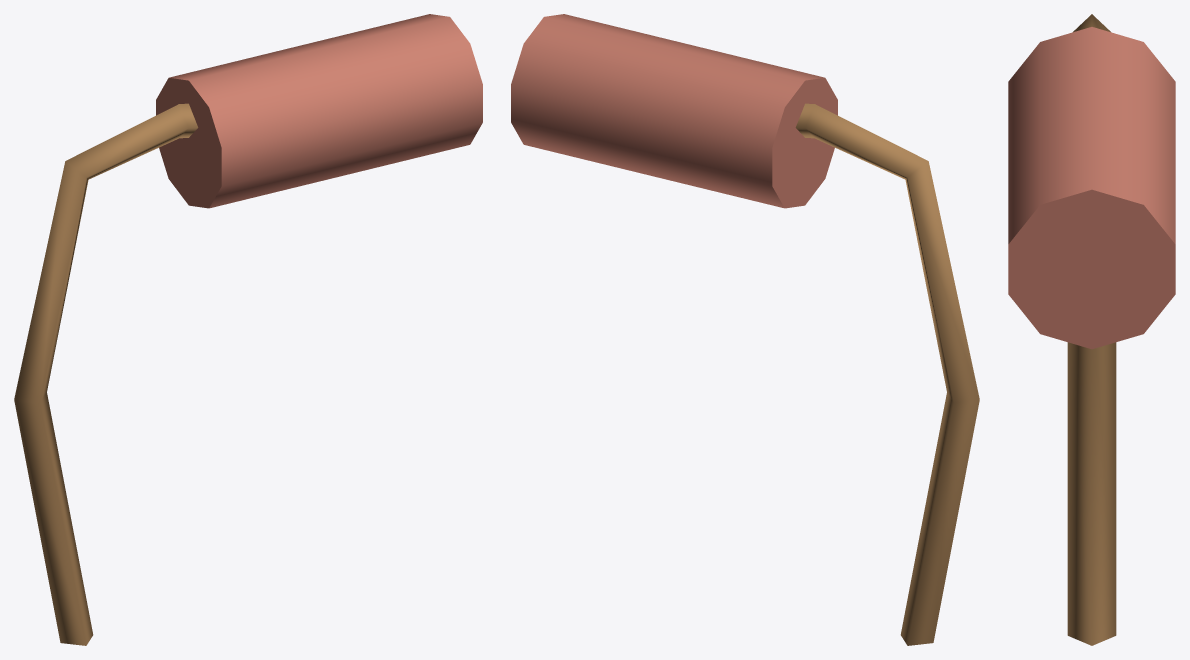
The model's file is paintroller.glb.
The picture shows the model from 3 angles, left to right: view 1: azimuth 30°, elevation 25°; view 2: azimuth 150°, elevation 25°; view 3: azimuth 270°, elevation 25°; orthographic projection. The views are drawn at different scales.
Visible parts, largest first — view 1: paintroller; view 2: paintroller; view 3: paintroller.
Boxes of the visible parts, box(x1,y1,x2,y2) form: paintroller: box(14, 14, 482, 645); paintroller: box(511, 14, 979, 645); paintroller: box(1008, 14, 1175, 645).
Bounding box in the file's own units: 0.2628 × 0.306 × 0.0685.
